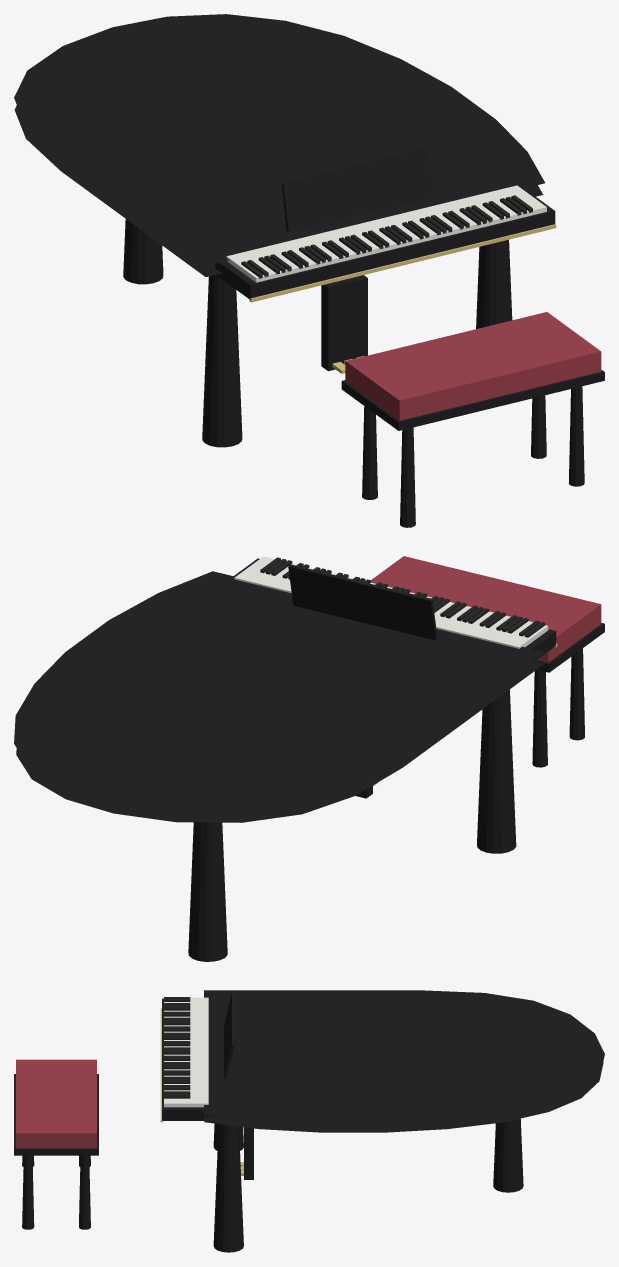
File: piano.glb
3 views of the same model, one above another, from view 1: azimuth 30°, elevation 25°; view 2: azimuth 150°, elevation 25°; view 3: azimuth 270°, elevation 25° (orthographic). The views are drawn at different scales.
Visible parts, largest first — view 1: pianoLid, pianoBench, pianoMusicRest, pianoKeysWhite, pianoLeg, pianoKeybed, pianoLyre, pianoBenchFrame, pianoLeg.001, pianoBody, pianoLeg.002, pianoTrim (+4 smaller); view 2: pianoLid, pianoBench, pianoBody, pianoMusicRest, pianoLeg, pianoLeg.002, pianoKeysWhite, pianoBenchLeg.001, pianoBenchLeg, pianoBenchFrame, pianoKeybed; view 3: pianoLid, pianoBench, pianoBody, pianoLeg.001, pianoKeysWhite, pianoLeg.002, pianoBenchFrame, pianoKeybed, pianoBenchLeg.002, pianoBenchLeg.003, pianoMusicRest, pianoLyre.
Boxes of the visible parts, x1=… form: pianoLid: x1=14, y1=14, x2=544, y2=265; pianoBench: x1=345, y1=312, x2=601, y2=420; pianoMusicRest: x1=281, y1=148, x2=433, y2=232; pianoKeysWhite: x1=226, y1=185, x2=546, y2=282; pianoLeg: x1=202, y1=275, x2=242, y2=447; pianoKeybed: x1=215, y1=188, x2=555, y2=299; pianoLyre: x1=321, y1=275, x2=367, y2=371; pianoBenchFrame: x1=341, y1=370, x2=604, y2=430; pianoLeg.001: x1=476, y1=239, x2=512, y2=328; pianoBody: x1=14, y1=105, x2=543, y2=276; pianoLeg.002: x1=123, y1=219, x2=163, y2=284; pianoTrim: x1=249, y1=224, x2=556, y2=302; pianoLid: x1=14, y1=571, x2=544, y2=811; pianoBench: x1=371, y1=556, x2=601, y2=662; pianoBody: x1=16, y1=661, x2=544, y2=822; pianoMusicRest: x1=288, y1=564, x2=437, y2=640; pianoLeg: x1=477, y1=689, x2=516, y2=853; pianoLeg.002: x1=188, y1=822, x2=227, y2=961; pianoKeysWhite: x1=234, y1=556, x2=548, y2=648; pianoBenchLeg.001: x1=532, y1=670, x2=547, y2=767; pianoBenchLeg: x1=569, y1=648, x2=584, y2=740; pianoBenchFrame: x1=535, y1=623, x2=604, y2=672; pianoKeybed: x1=234, y1=558, x2=556, y2=661; pianoLid: x1=204, y1=990, x2=604, y2=1124; pianoBench: x1=16, y1=1059, x2=96, y2=1148; pianoBody: x1=204, y1=1062, x2=603, y2=1132; pianoLeg.001: x1=213, y1=1124, x2=243, y2=1252; pianoKeysWhite: x1=164, y1=997, x2=208, y2=1107; pianoLeg.002: x1=493, y1=1118, x2=523, y2=1192; pianoBenchFrame: x1=14, y1=1074, x2=98, y2=1155; pianoKeybed: x1=162, y1=998, x2=214, y2=1120; pianoBenchLeg.002: x1=22, y1=1155, x2=34, y2=1229; pianoBenchLeg.003: x1=79, y1=1155, x2=90, y2=1229; pianoMusicRest: x1=224, y1=992, x2=234, y2=1078; pianoLyre: x1=244, y1=1127, x2=253, y2=1179.
Bounding box in the file's own units: 1.57 × 0.9692 × 2.92.
